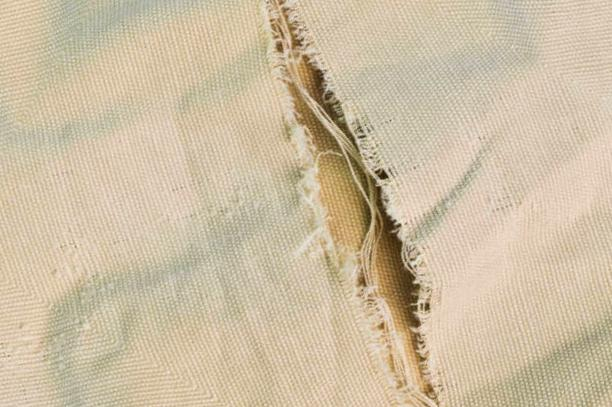hole: (255, 1, 454, 406)
